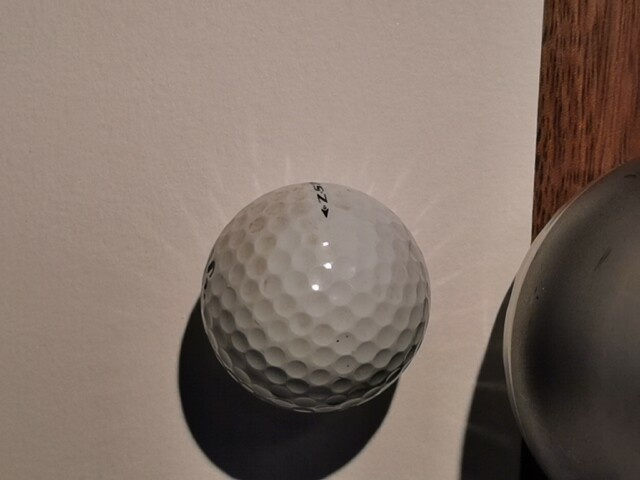Ball: (200, 182, 431, 411)
